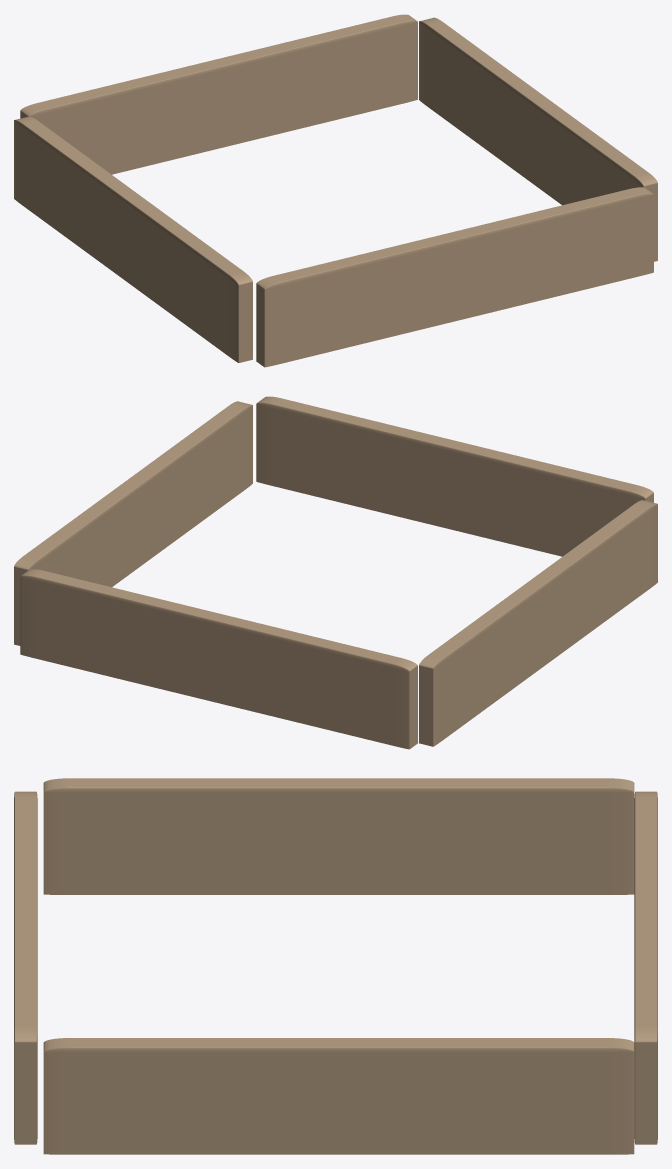
File: PlanksF.glb
The picture shows the model from 3 angles, top to bottom: view 1: azimuth 30°, elevation 25°; view 2: azimuth 150°, elevation 25°; view 3: azimuth 270°, elevation 25°; orthographic projection. The views are drawn at different scales.
Visible parts, largest first — view 1: Mesh_Mesh_head_geo.001_lambert2SG.001; view 2: Mesh_Mesh_head_geo.001_lambert2SG.001; view 3: Mesh_Mesh_head_geo.001_lambert2SG.001.
Boxes of the visible parts, bbox=[...] form: Mesh_Mesh_head_geo.001_lambert2SG.001: bbox=[14, 14, 657, 367]; Mesh_Mesh_head_geo.001_lambert2SG.001: bbox=[14, 396, 657, 749]; Mesh_Mesh_head_geo.001_lambert2SG.001: bbox=[14, 778, 657, 1154].
Bounding box in the file's own units: 0.108 × 0.02 × 0.109.
